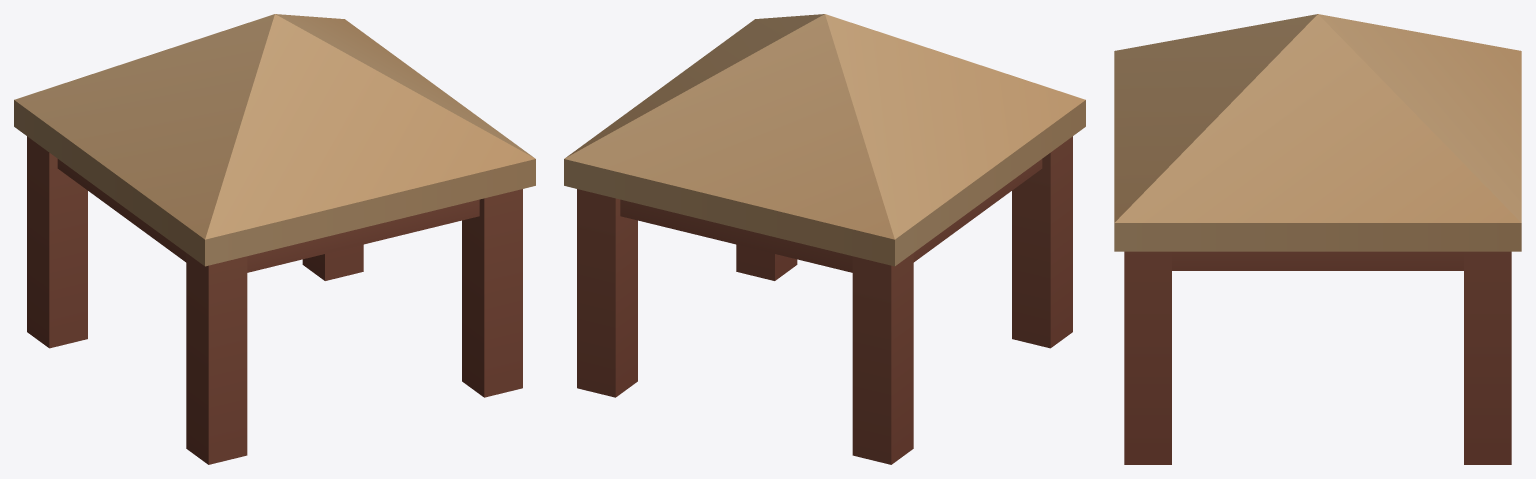
Rendered from tent.glb.
The picture shows the model from 3 angles, left to right: view 1: azimuth 30°, elevation 25°; view 2: azimuth 150°, elevation 25°; view 3: azimuth 270°, elevation 25°; orthographic projection. The views are drawn at different scales.
Visible parts, largest first — view 1: tent; view 2: tent; view 3: tent.
Boxes of the visible parts, box(x1,y1,x2,y2) form: tent: box(14, 14, 535, 464); tent: box(564, 14, 1085, 464); tent: box(1114, 14, 1521, 464).
Size of the model in its own units: 0.516 by 0.516 by 0.516.
